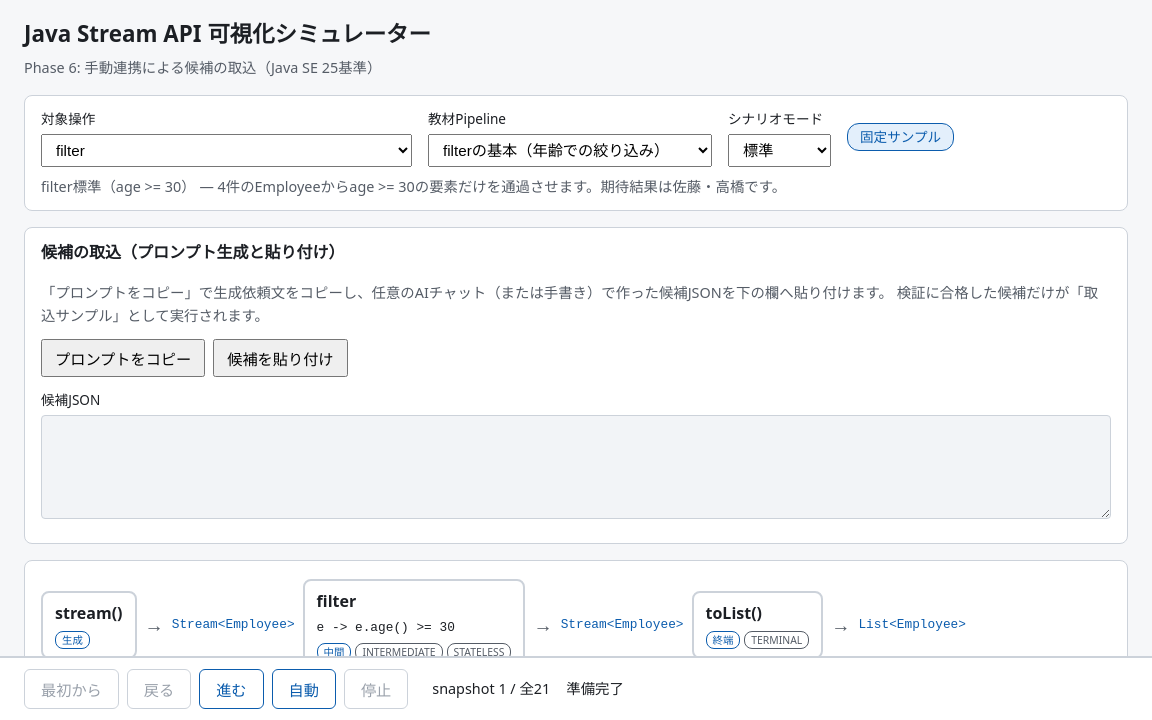
Test: P6-R02 コピー操作 › P6-R02: コピー失敗時はプロンプト全文を選択可能なテキストとして表示する
What coordinates should you click on to do the following:
click the button with test id "copy-prompt-button"
I would click on:
 (123, 358)
Its box is top-left (41, 339), bottom-right (205, 377).
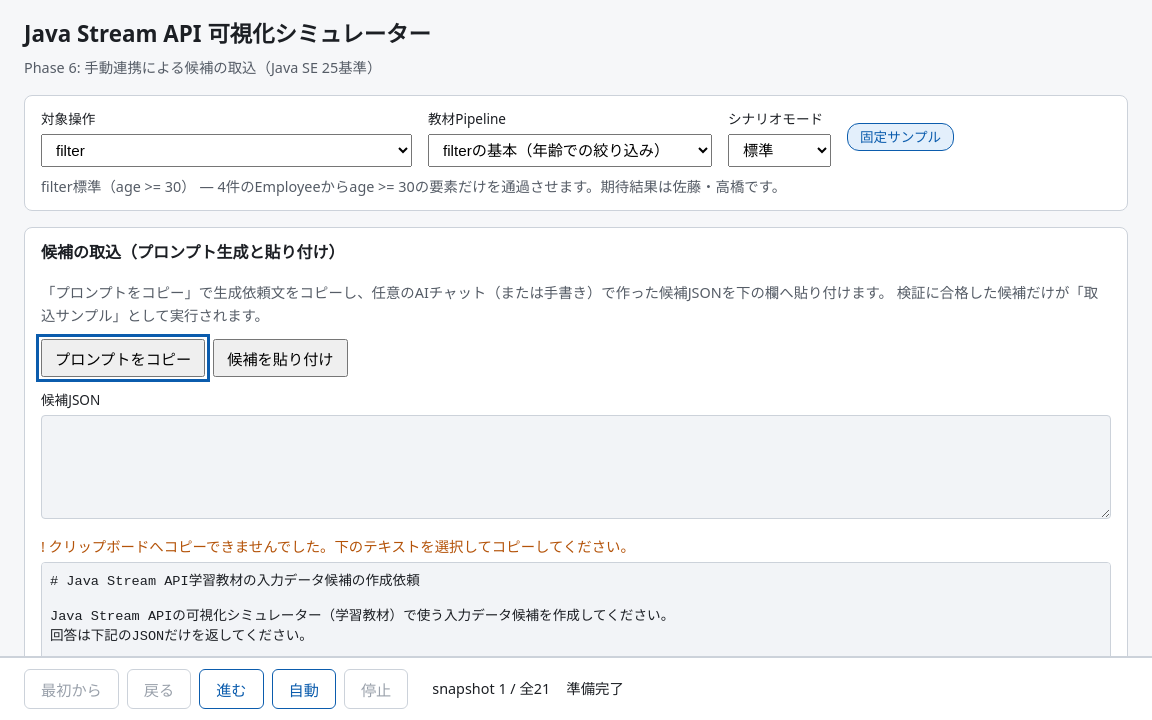
Result: the text box with test id "copy-fallback-text" is shown at top-left (41, 562), bottom-right (1111, 696)
Result: the element with test id "copy-fallback" shows "コピーできませんでした" at top-left (41, 537), bottom-right (635, 556)
